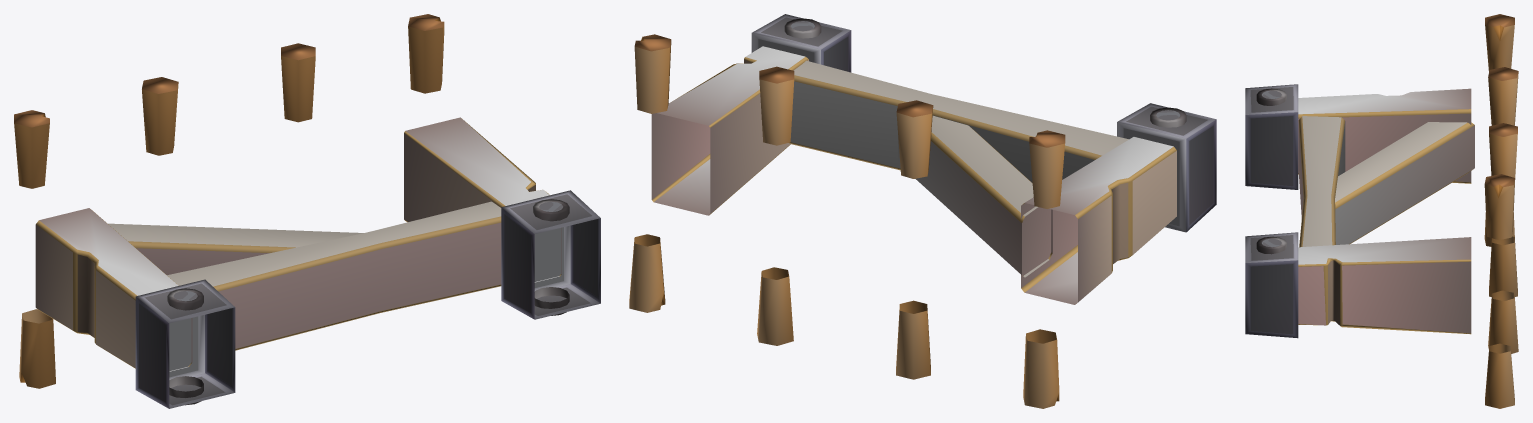
The model's file is SwordRackBase.fbx.
3 renders of one model, left to right at view 1: azimuth 30°, elevation 25°; view 2: azimuth 150°, elevation 25°; view 3: azimuth 270°, elevation 25°, orthographic. The views are drawn at different scales.
Parts seen in each view (by area): view 1: MARK4STATIC_SwordRackBase (1); view 2: MARK4STATIC_SwordRackBase (1); view 3: MARK4STATIC_SwordRackBase (1).
Part boxes in pixels (x1,y1,x2,y2): MARK4STATIC_SwordRackBase (1): (14,14,600,408); MARK4STATIC_SwordRackBase (1): (629,14,1216,408); MARK4STATIC_SwordRackBase (1): (1245,14,1518,408).
Size of the model in its own units: 78.14 by 45.02 by 51.1.
